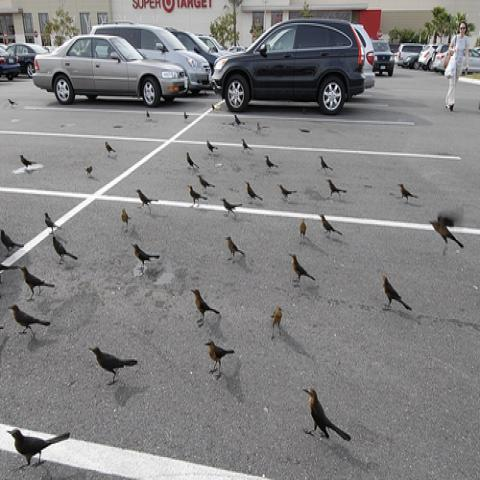car: (214, 19, 367, 113), (36, 34, 190, 104), (90, 23, 211, 96), (169, 30, 216, 75), (6, 42, 49, 77), (431, 48, 479, 76), (356, 23, 376, 88), (395, 43, 426, 71), (371, 41, 395, 77), (0, 44, 21, 81), (418, 44, 439, 71), (199, 35, 224, 50)
